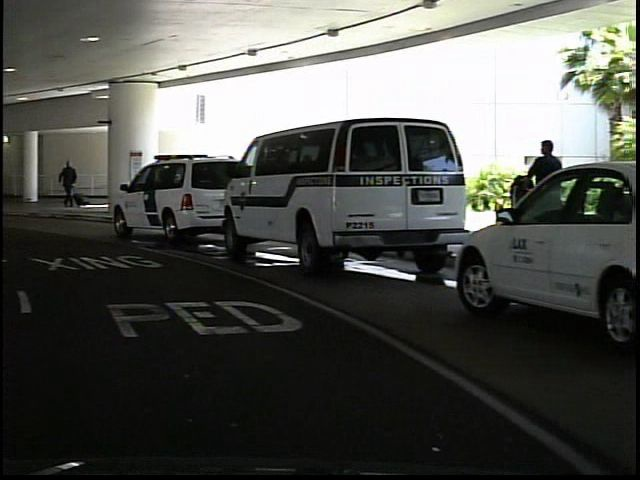person: (520, 135, 564, 262), (53, 155, 79, 215)
